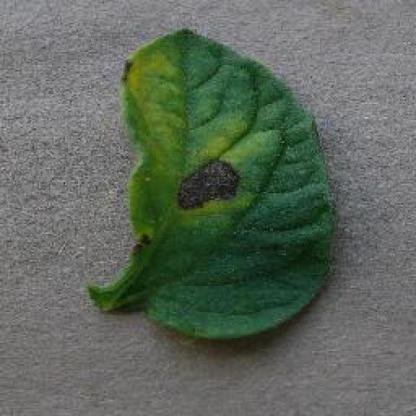Tomato_Blight: (89, 29, 332, 336)
